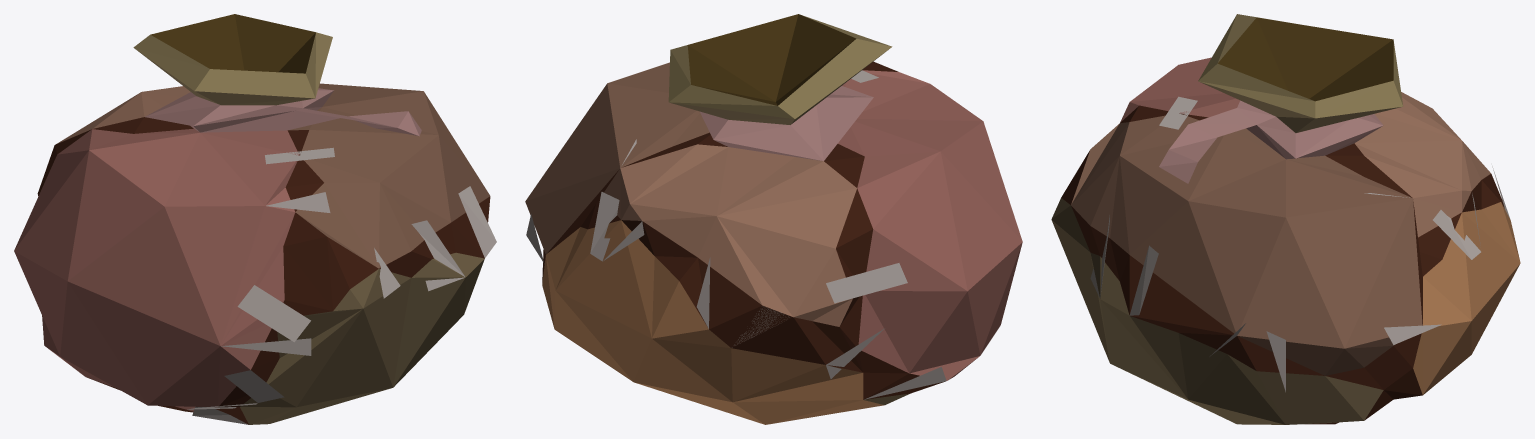
Rendered from colossal-pouch.gltf.
3 views of the same model, side by side, from view 1: azimuth 30°, elevation 25°; view 2: azimuth 150°, elevation 25°; view 3: azimuth 270°, elevation 25° (orthographic). The views are drawn at different scales.
Bounding box in the file's own units: 51 × 38 × 48.
Materials: 1 (1 with a texture image).
